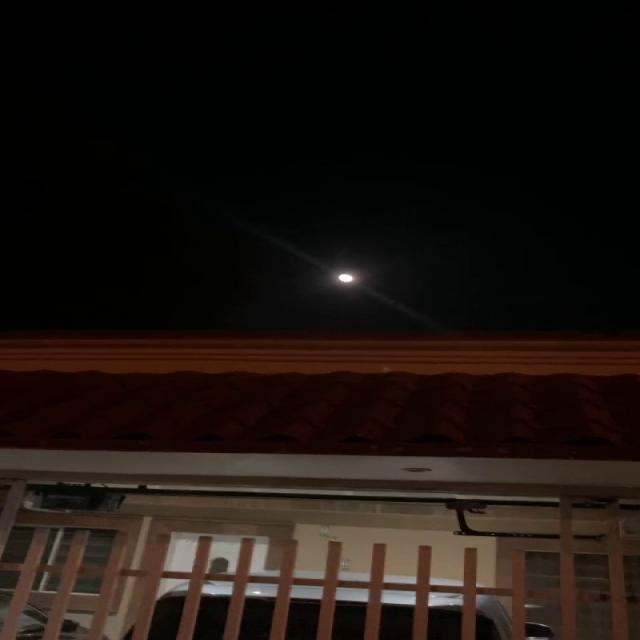moon: (328, 264, 361, 291)
